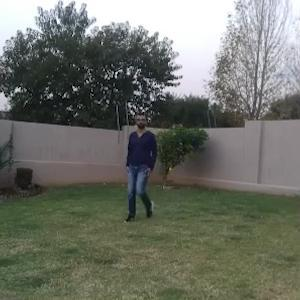follow: (123, 111, 155, 219)
